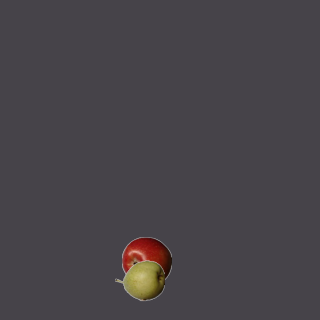Apple Braeburn: (121, 236, 171, 286)
Pear: (114, 255, 164, 305)
